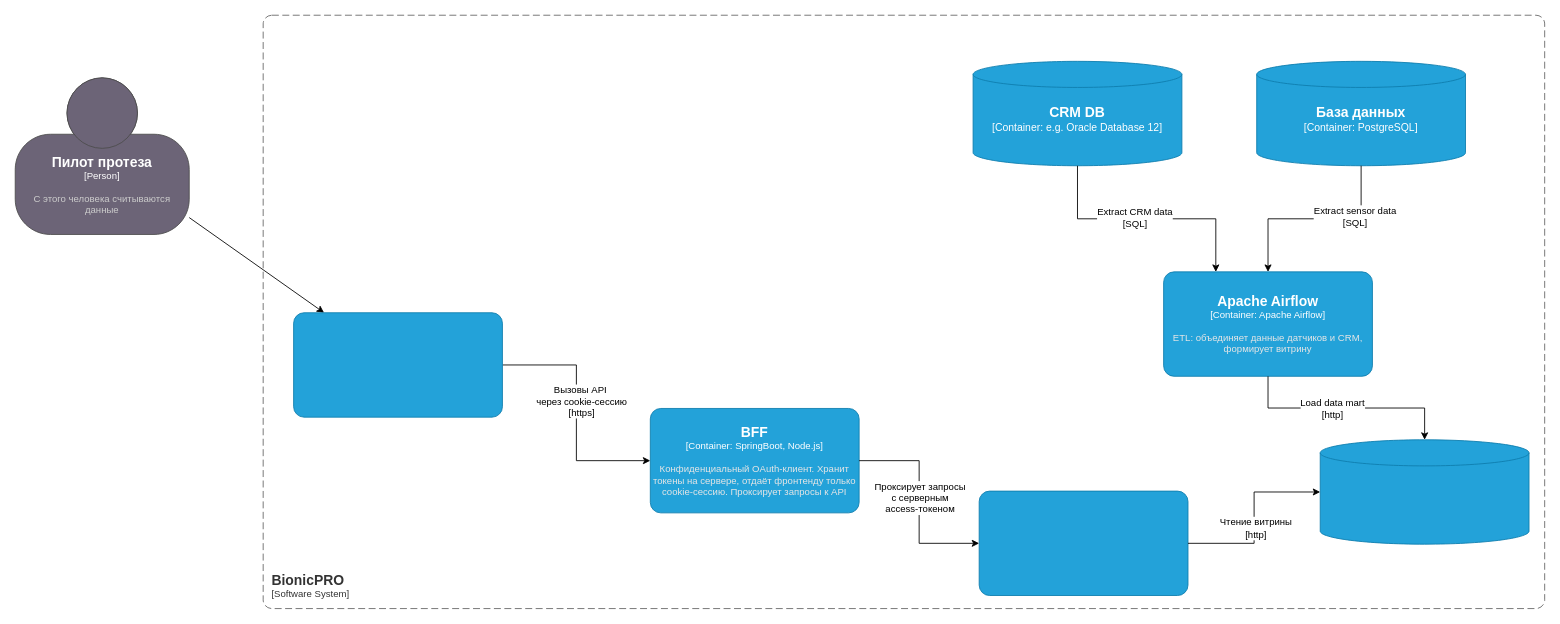
The diagram is 1560 pixels wide and 624 high, and some of its shapes have lost their labels. The centre of each missing label's shape, as x and y in pixels:
API [Container: e.g. SpringBoot, ElasticSearch, etc.]: [1083,543]
ClickHouse (OLAP) [Container: ClickHouse] Витрина отчетности: [1424,491]
Приложение для донастройки протеза [Container: iOD, Android]: [397,364]
